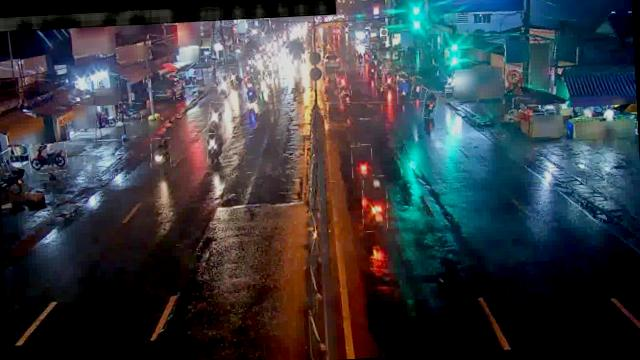Bike: (362, 174, 389, 231), (28, 142, 68, 174), (350, 145, 372, 181), (150, 138, 171, 168), (207, 101, 226, 134), (118, 102, 142, 124), (206, 133, 224, 162), (422, 90, 438, 118), (339, 84, 352, 108), (396, 78, 408, 104), (244, 77, 256, 102), (410, 76, 422, 99), (334, 68, 346, 88), (382, 68, 394, 88), (218, 74, 228, 96), (375, 75, 385, 94), (227, 67, 236, 86)
